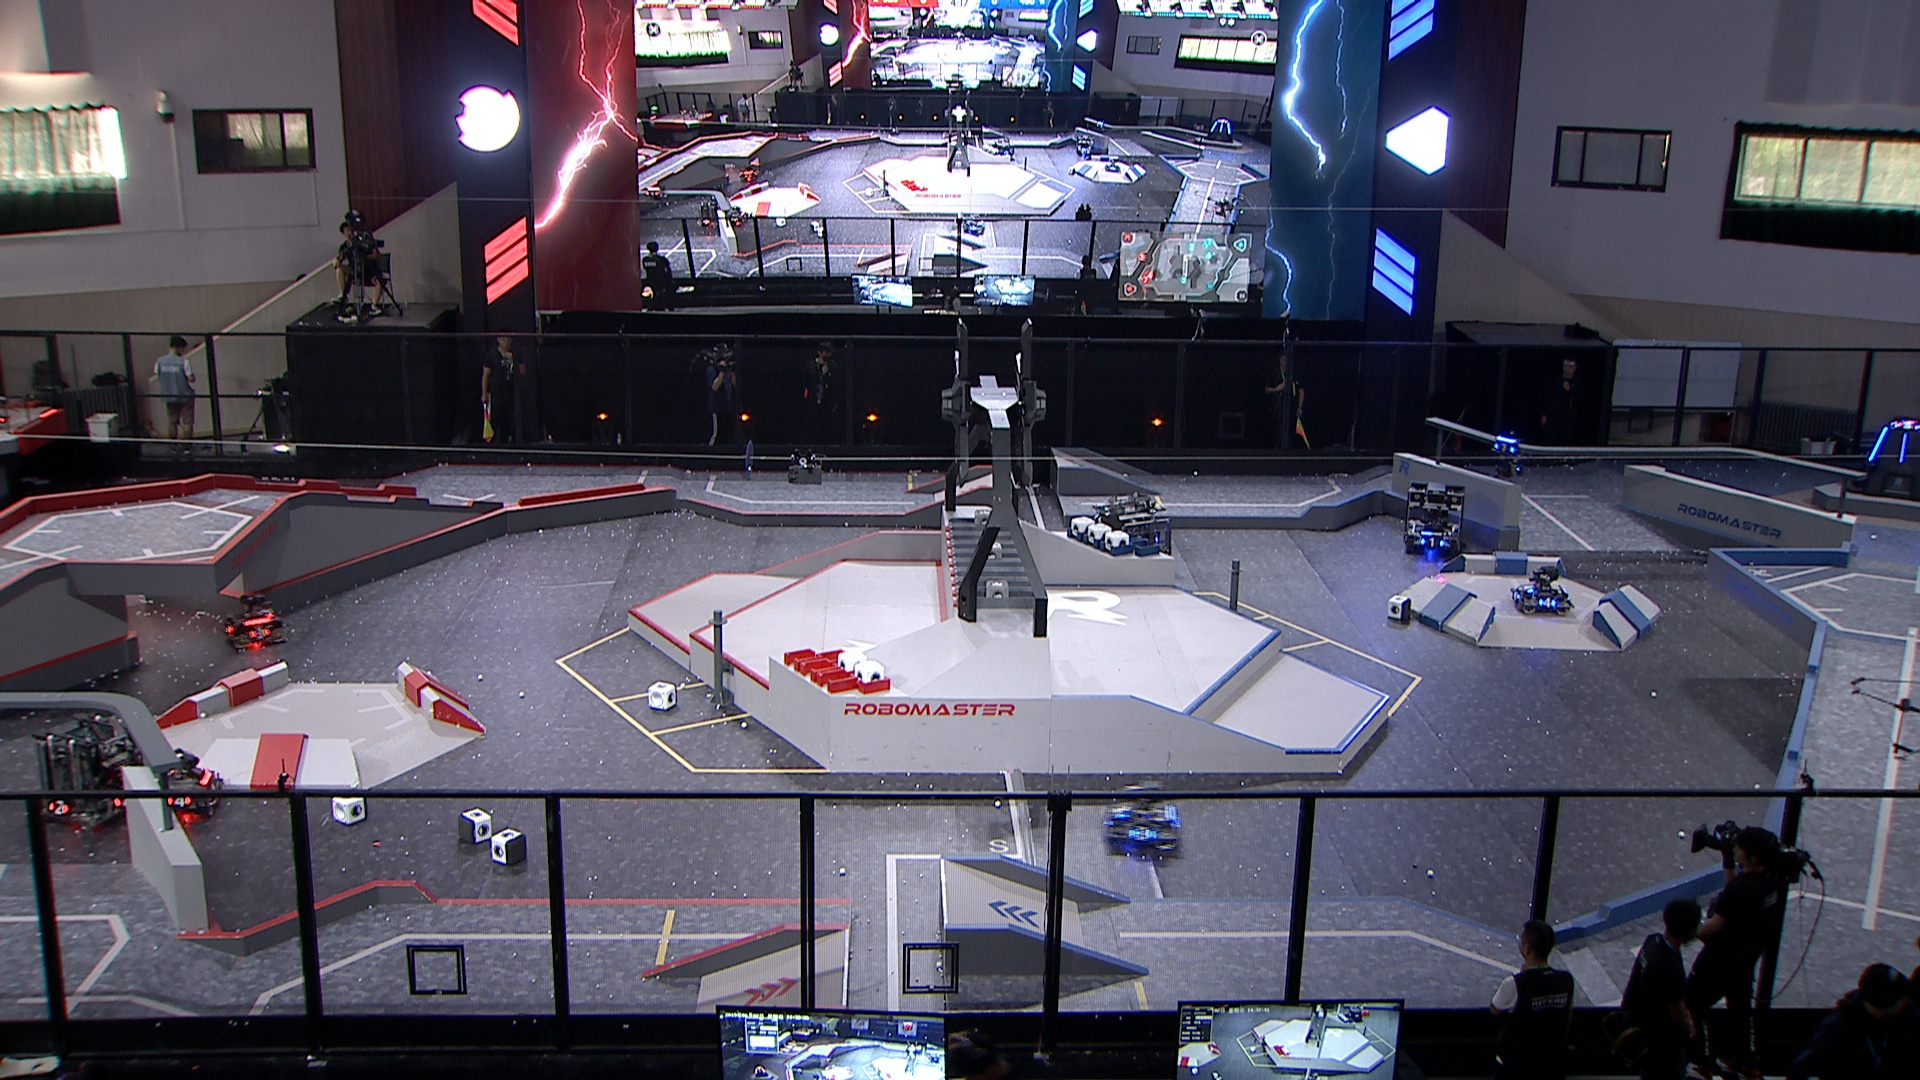armor: (1866, 425, 1888, 463), (1126, 823, 1158, 843), (45, 798, 69, 818), (166, 794, 193, 811), (1419, 535, 1447, 550), (249, 626, 273, 642), (1898, 431, 1909, 463), (1493, 440, 1518, 455), (1112, 804, 1130, 822), (1538, 597, 1557, 611), (1520, 584, 1534, 597), (1513, 589, 1523, 603)
base: (1845, 418, 1920, 505)
car: (32, 713, 150, 832), (1092, 496, 1174, 583), (1102, 777, 1185, 856), (141, 750, 224, 820), (1403, 480, 1468, 556), (219, 593, 291, 655), (1510, 564, 1575, 616)
ignore: (1205, 116, 1237, 142), (698, 199, 723, 225), (727, 207, 750, 232), (992, 136, 1015, 160), (644, 185, 671, 204), (963, 215, 986, 237), (1076, 135, 1097, 157), (1894, 419, 1920, 434), (740, 166, 760, 183), (1105, 160, 1122, 173), (1095, 120, 1106, 135)
watcher: (1491, 434, 1523, 480)
